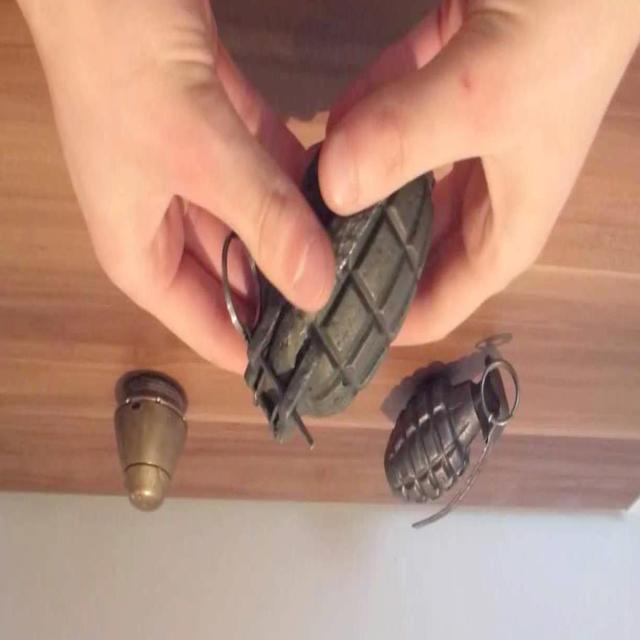grenade: (222, 161, 435, 452), (383, 354, 522, 533)
